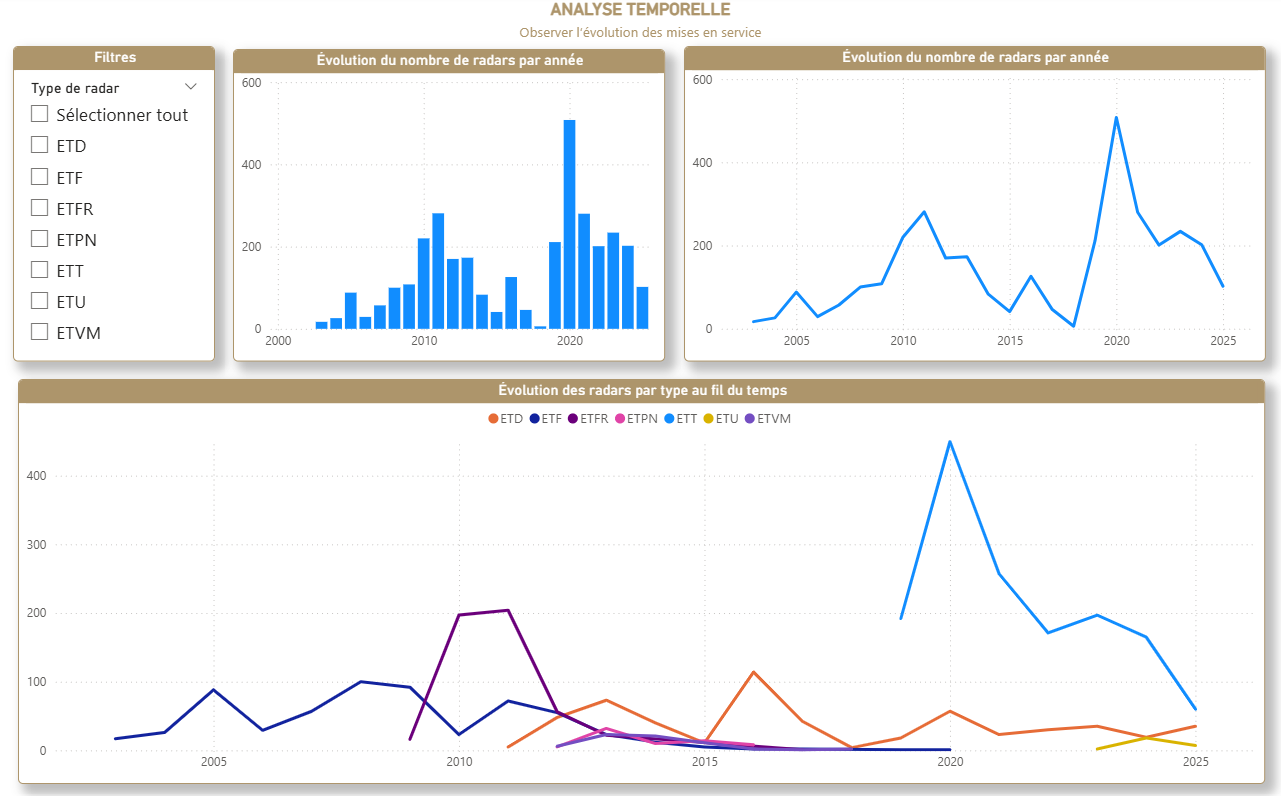

What the dashboard file says about the page in this screenshot:
{"tool":"powerbi","page":{"name":"Analyse temporelle","canvas":[1283,800],"ordinal":3},"visuals":[{"type":"shape","title":"ANALYSE TEMPORELLE","box":[0,3,1282.6,52.7],"z":1000},{"type":"lineChart","title":"Évolution du nombre de radars par année","fields":{"Y":["vue_radars_detaillee.Nombre de radars"],"Category":["vue_radars_detaillee.annee"]},"box":[684.3,50,578.6,314.3],"z":3000},{"type":"shape","title":"Filtres","box":[17.1,50,201.4,314.3],"z":7000},{"type":"slicer","fields":{"Values":["vue_radars_detaillee.type_radar"]},"box":[21.4,78.6,191,275.7],"z":8000},{"type":"columnChart","title":"Évolution du nombre de radars par année","fields":{"Category":["vue_radars_detaillee.annee"],"Y":["vue_radars_detaillee.Nombre de radars"]},"box":[235.7,52.9,430,311.4],"z":9001},{"type":"lineChart","title":"Évolution des radars par type au fil du temps","fields":{"Category":["vue_radars_detaillee.annee"],"Y":["vue_radars_detaillee.Nombre de radars"],"Series":["vue_radars_detaillee.type_radar"]},"box":[21.4,381.4,1241.4,402.9],"z":9501}]}

Visuals, with their boxes in screenshot pixels (x1, y1, x2, y2), scaled from the page's 1283x800 canvas onto the 1281x796 screenshot:
"ANALYSE TEMPORELLE" shape: <region>0, 3, 1280, 55</region>
"Évolution du nombre de radars par année" lineChart: <region>683, 50, 1261, 362</region>
"Filtres" shape: <region>17, 50, 218, 362</region>
slicer - vue_radars_detaillee.type_radar: <region>21, 78, 212, 353</region>
"Évolution du nombre de radars par année" columnChart: <region>235, 53, 665, 362</region>
"Évolution des radars par type au fil du temps" lineChart: <region>21, 379, 1261, 780</region>
